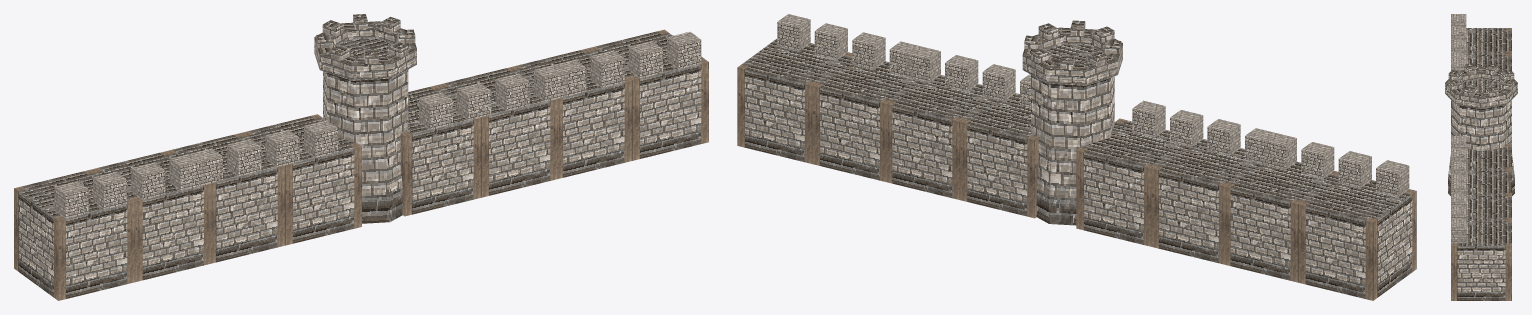
The model's file is wall_large_tower.glb.
3 renders of one model, left to right at view 1: azimuth 30°, elevation 25°; view 2: azimuth 150°, elevation 25°; view 3: azimuth 270°, elevation 25°, orthographic. The views are drawn at different scales.
Parts seen in each view (by area): view 1: Wall_Left_0.001, Tower_Base, Wall_Left_1, Wall_Right_0, Wall_Right_1, Wall_Right_1.001, Wall_Left_0, Wall_Left_1.001, Wall_Right_0.001, Tower_Top, Merlon_R_5, Merlon_L_2.001 (+14 smaller); view 2: Wall_Left_0.001, Tower_Base, Wall_Right_1.001, Wall_Left_0, Wall_Left_1.001, Wall_Right_1, Wall_Left_1, Wall_Right_0.001, Wall_Right_0, Tower_Top, Merlon_R_6.001, Merlon_R_5 (+13 smaller); view 3: Wall_Right_1.001, Tower_Base, Tower_Top, Wall_Right_0.001, Wall_Right_1, Wall_Left_0.001, Wall_Right_0, Wall_Left_1.001, Merlon_R_7.001, Merlon_R_6, Merlon_L_2.001, Merlon_R_5.001 (+9 smaller).
Boxes of the visible parts, box(x1,y1,x2,y2) form: Wall_Left_0.001: box(14, 169, 134, 300); Tower_Base: box(323, 38, 408, 223); Wall_Left_1: box(241, 114, 361, 245); Wall_Right_0: box(400, 85, 481, 216); Wall_Right_1: box(437, 66, 557, 197); Wall_Right_1.001: box(588, 29, 708, 160); Wall_Left_0: box(168, 133, 285, 263); Wall_Left_1.001: box(91, 151, 211, 282); Wall_Right_0.001: box(513, 48, 632, 178); Tower_Top: box(314, 14, 416, 80); Merlon_R_5: box(457, 83, 491, 120); Merlon_L_2.001: box(131, 162, 165, 199); Wall_Left_0.001: box(1298, 175, 1416, 300); Tower_Base: box(1031, 44, 1114, 225); Wall_Right_1.001: box(737, 38, 852, 163); Wall_Left_0: box(1151, 139, 1257, 264); Wall_Left_1.001: box(1223, 161, 1338, 282); Wall_Right_1: box(885, 75, 991, 199); Wall_Left_1: box(1076, 118, 1183, 246); Wall_Right_0.001: box(812, 57, 919, 182); Wall_Right_0: box(960, 93, 1038, 218); Tower_Top: box(1022, 20, 1122, 85); Merlon_R_6.001: box(814, 23, 847, 59); Merlon_R_5: box(982, 64, 1015, 100); Wall_Right_1.001: box(1451, 220, 1511, 300); Tower_Base: box(1448, 79, 1514, 195); Tower_Top: box(1445, 63, 1517, 108); Wall_Right_0.001: box(1466, 194, 1511, 220); Wall_Right_1: box(1466, 169, 1511, 194); Wall_Left_0.001: box(1466, 28, 1511, 53); Wall_Right_0: box(1466, 144, 1511, 169); Wall_Left_1.001: box(1466, 53, 1511, 71); Merlon_R_7.001: box(1451, 219, 1466, 243); Merlon_R_6: box(1451, 161, 1466, 174); Merlon_L_2.001: box(1451, 39, 1466, 52); Merlon_R_5.001: box(1451, 193, 1466, 206).
Size of what is drawn, in the model's own units: 16.96 by 4.22 by 2.4.
Materials: 30 (30 with a texture image).
